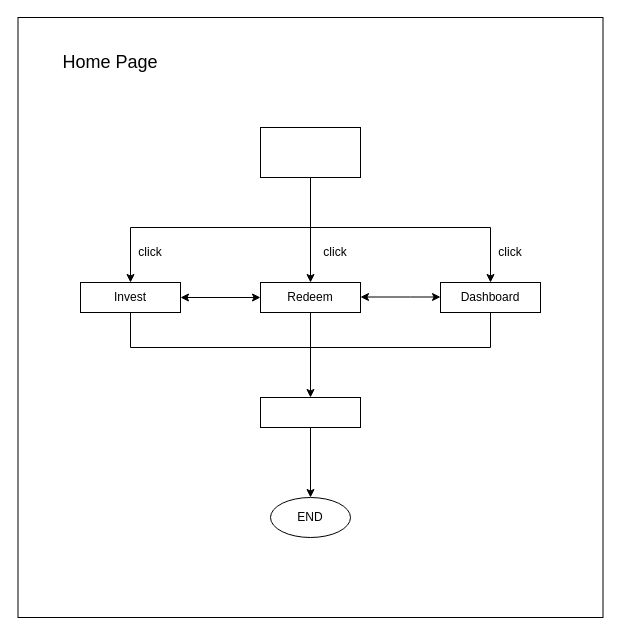
Image size: 620x635. Some labels were removed from this diagram. The shapes that lost their labels are listed below. From the top down, each one's centre as x and y in pixels, then its label:
At pixel 310 152: "HOME".
At pixel 310 412: "Logout".
